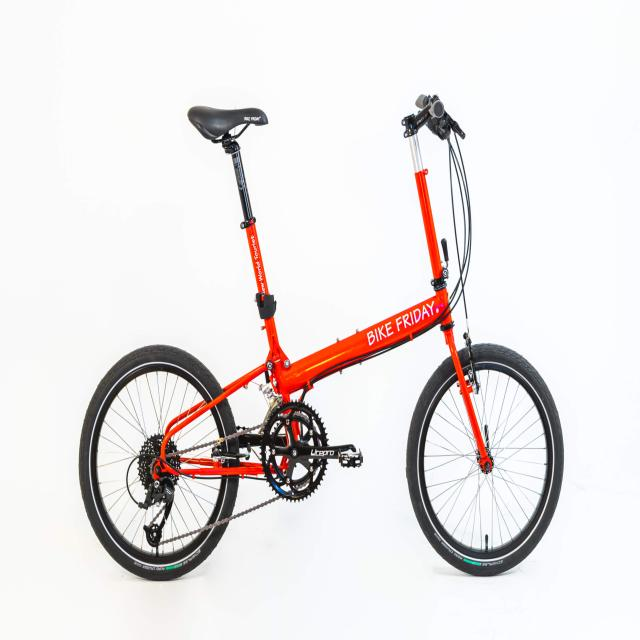folding-bike: (73, 91, 570, 583)
